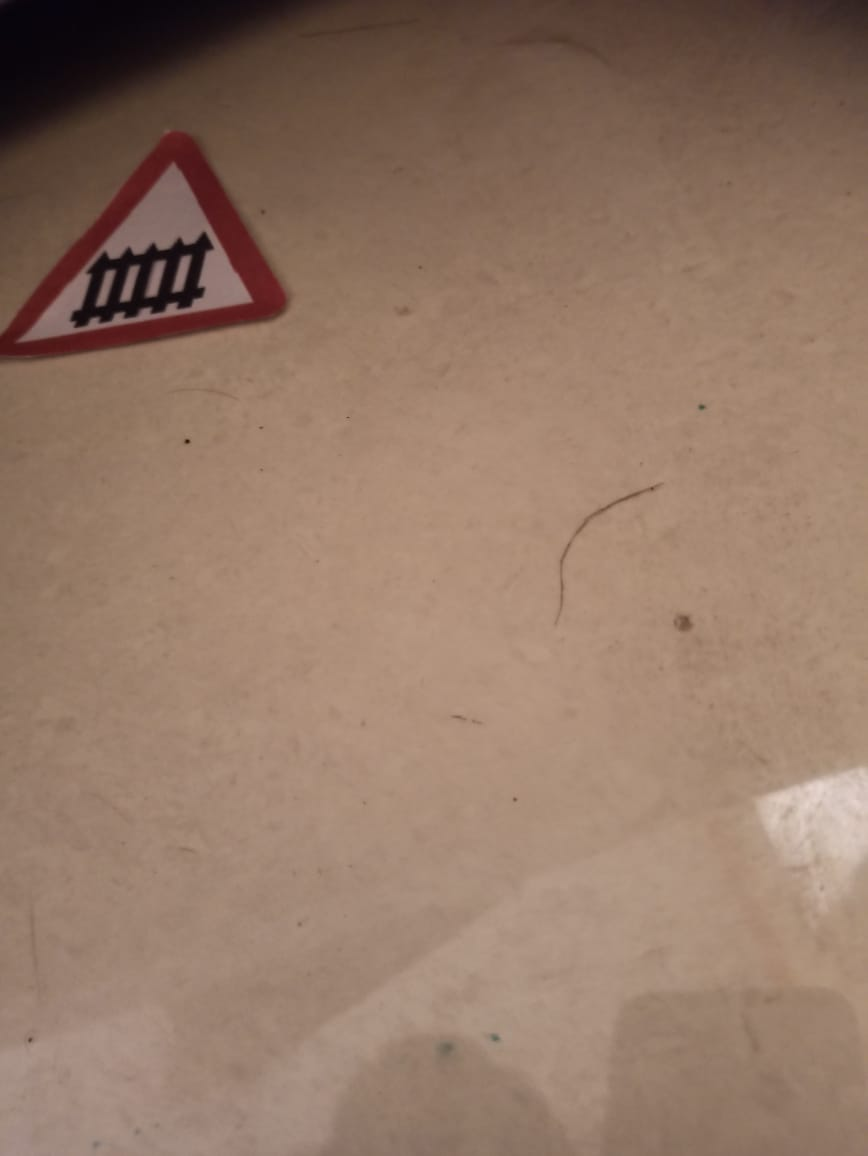GUARDED LEVEL CROSSING: (1, 113, 326, 360)
